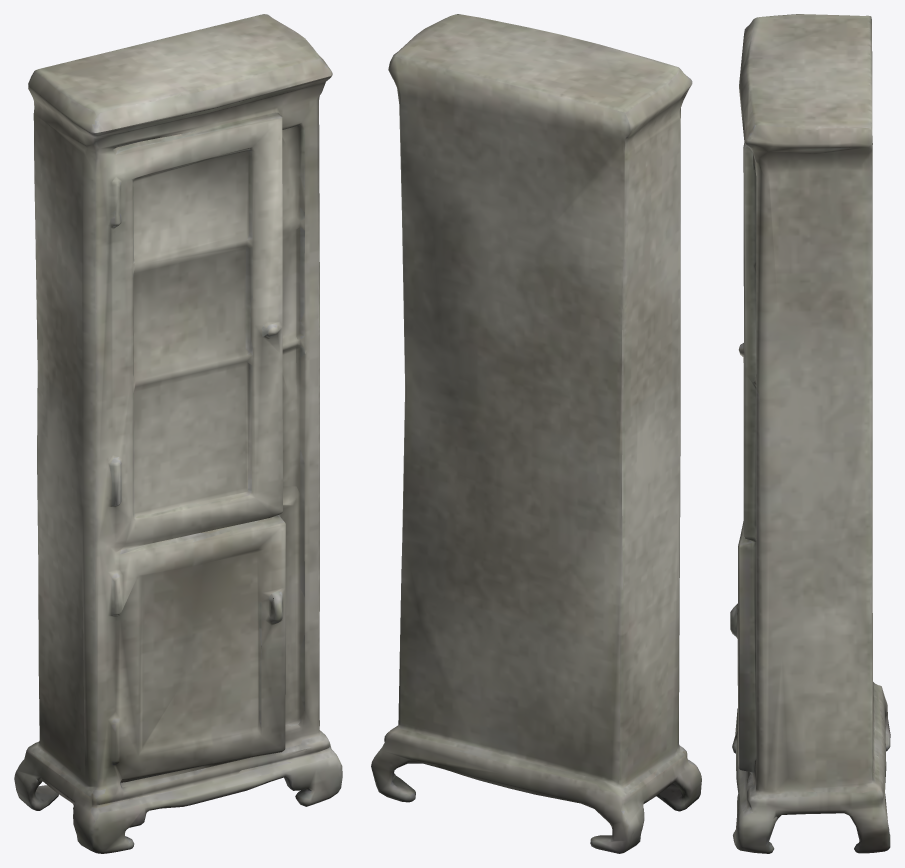
The model's file is worn-white-painted-medicine-cabinet-v001.glb.
The picture shows the model from 3 angles, left to right: view 1: azimuth 30°, elevation 25°; view 2: azimuth 150°, elevation 25°; view 3: azimuth 270°, elevation 25°; orthographic projection.
Parts seen in each view (by area): view 1: worn-white-painted-medicine-cabinet; view 2: worn-white-painted-medicine-cabinet; view 3: worn-white-painted-medicine-cabinet.
Boxes of the visible parts, x1,y1,x2,y2 form: worn-white-painted-medicine-cabinet: (14,14,342,853); worn-white-painted-medicine-cabinet: (371,14,701,853); worn-white-painted-medicine-cabinet: (730,14,890,853).
Bounding box in the file's own units: 0.6139 × 1.67 × 0.3331.
Materials: 1 (1 with a texture image).
